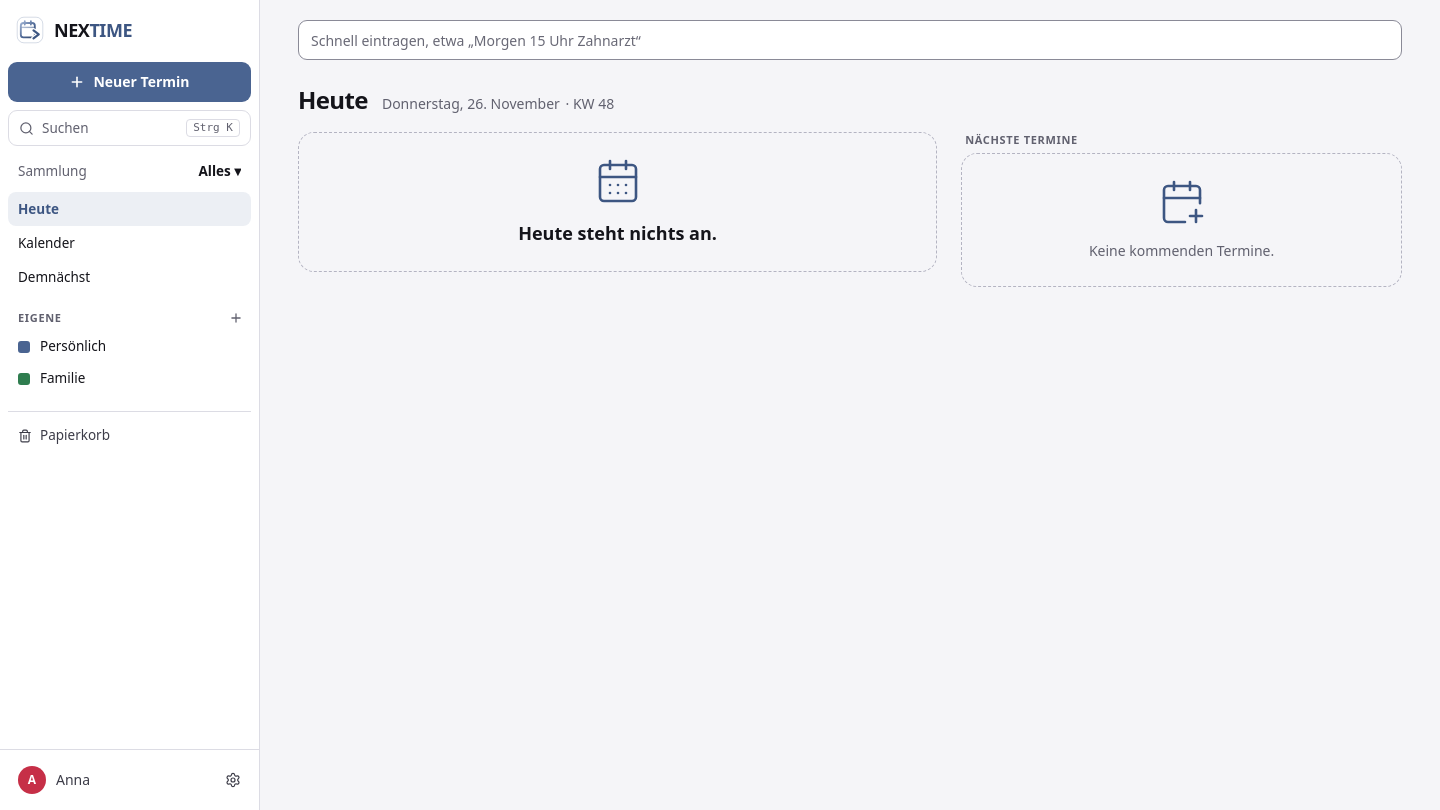
Test: TIME-5 the side panel › TIME-5 AC-2 AC-9 EC-12 "Busy" follows "All day" until it is touched, and a whole day has dates only
Later steps or results of the test are not shown.
Step 1. Click the button with test id "new-event" → {"x": 130, "y": 82}, box [8, 62, 251, 102]
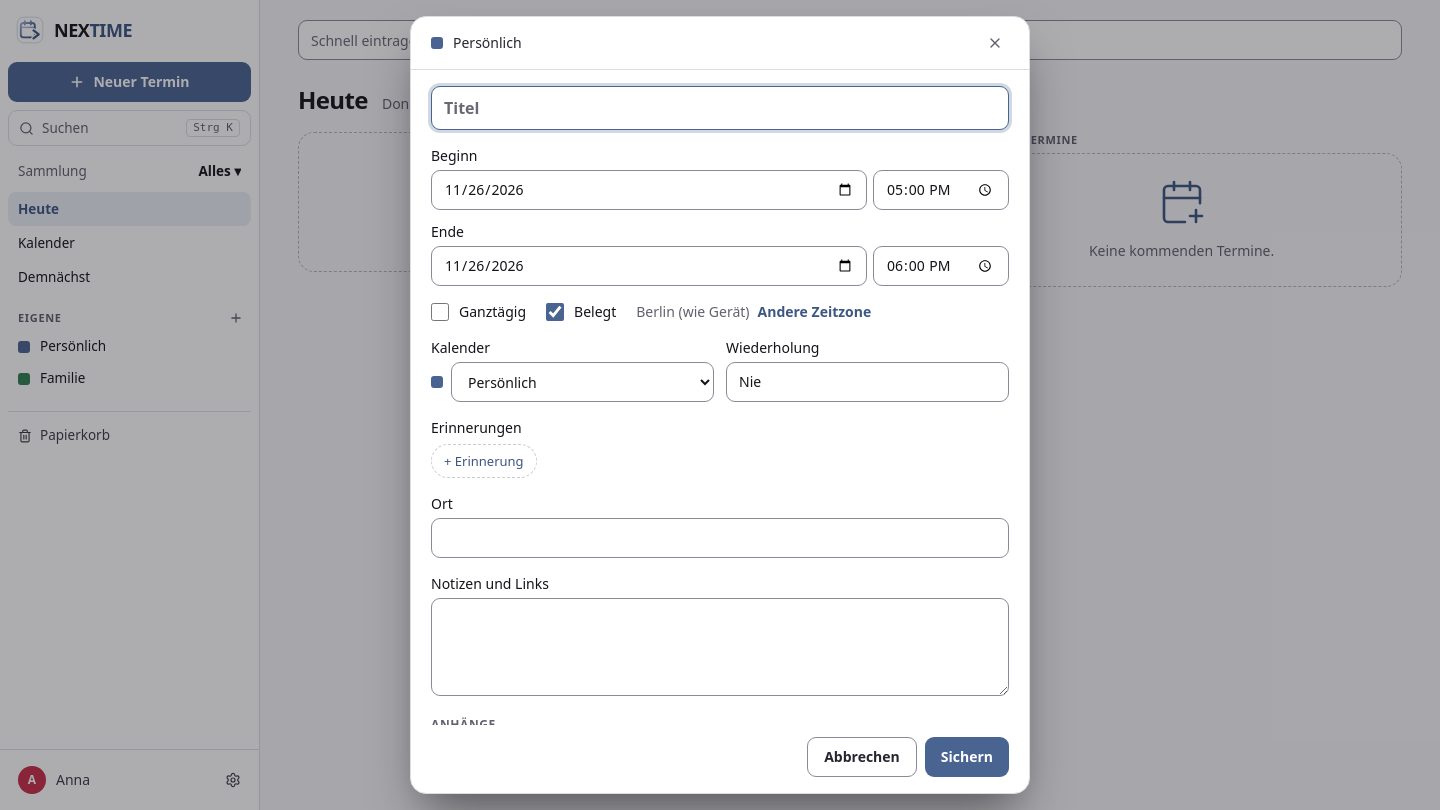
Step 2. Click the checkbox labelled "Ganztägig" → {"x": 440, "y": 312}, box [431, 303, 449, 321]
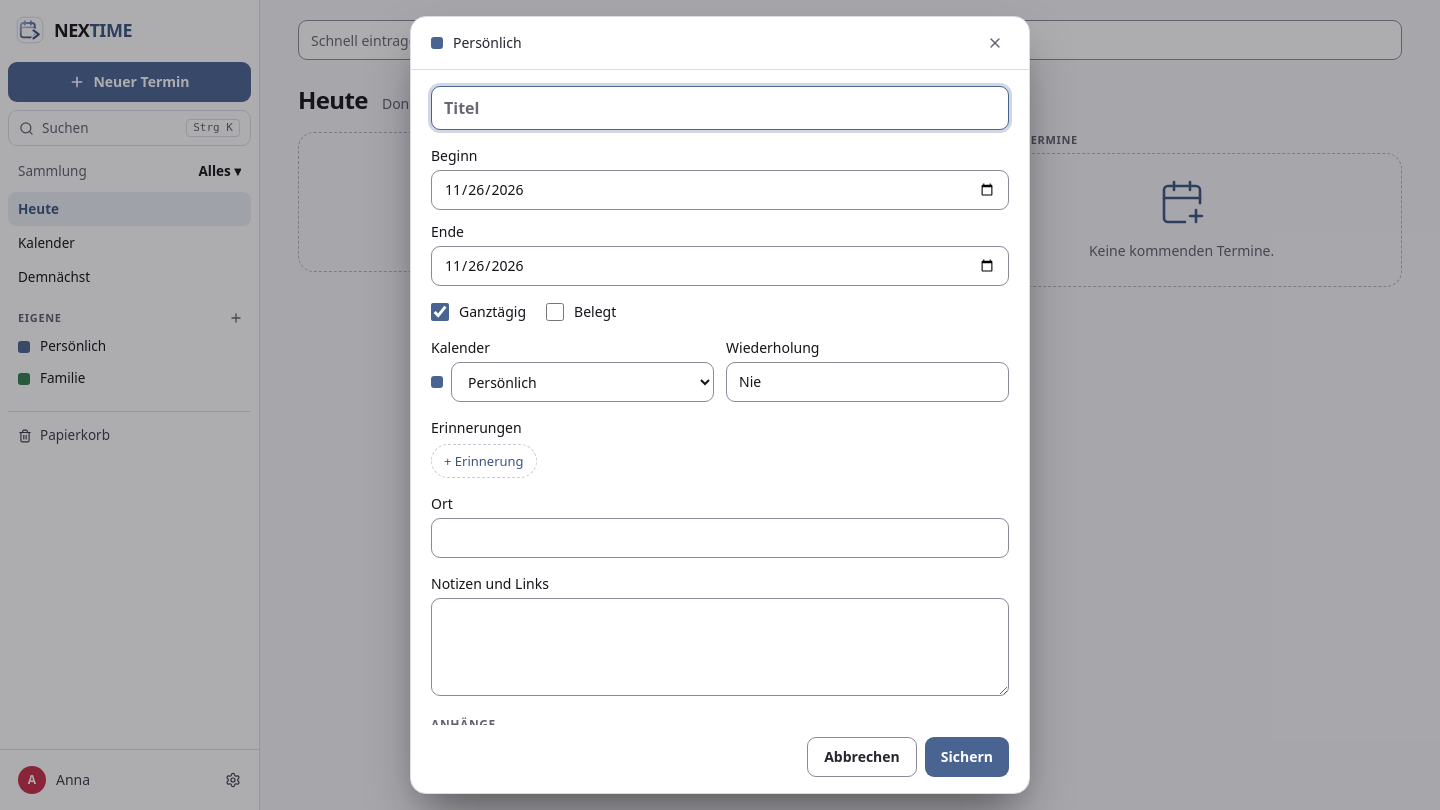
Now the time field with test id "field-start-time" is gone
